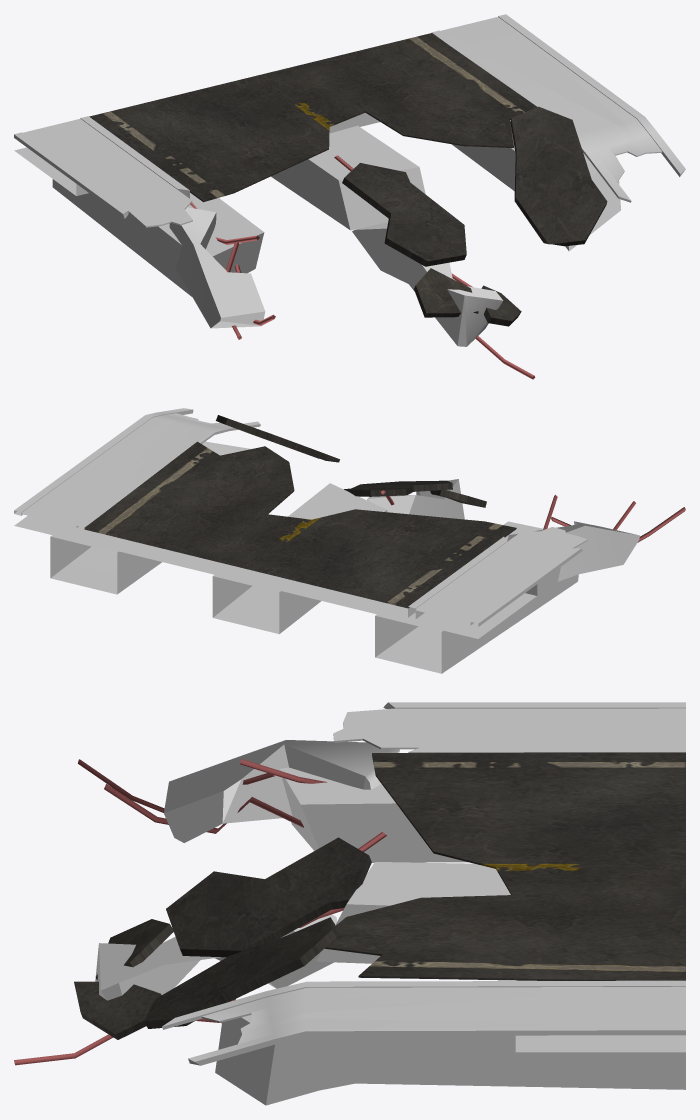
The model's file is Bridge_Damage_Small.fbx.
3 views of the same model, one above another, from view 1: azimuth 30°, elevation 25°; view 2: azimuth 150°, elevation 25°; view 3: azimuth 270°, elevation 25° (orthographic). The views are drawn at different scales.
Parts seen in each view (by area): view 1: Bridge_Damage_B_10, Bridge_Damage_B_1, Bridge_Damage_B_3, Bridge_Damage_B_4, Bridge_Damage_B_2; view 2: Bridge_Damage_B_10, Bridge_Damage_B_3, Bridge_Damage_B_1, Bridge_Damage_B_4; view 3: Bridge_Damage_B_10, Bridge_Damage_B_3, Bridge_Damage_B_1, Bridge_Damage_B_2, Bridge_Damage_B_4, Bridge_Damage_B_8, Bridge_Damage_B_7, Bridge_Damage_B_6.
Part boxes in pixels (box(x1,y1,x2,y2)): Bridge_Damage_B_10: box(14, 14, 685, 346); Bridge_Damage_B_1: box(510, 106, 607, 246); Bridge_Damage_B_3: box(342, 163, 466, 266); Bridge_Damage_B_4: box(414, 268, 478, 317); Bridge_Damage_B_2: box(481, 285, 521, 326); Bridge_Damage_B_10: box(14, 408, 639, 673); Bridge_Damage_B_3: box(344, 480, 452, 496); Bridge_Damage_B_1: box(216, 415, 339, 462); Bridge_Damage_B_4: box(430, 490, 486, 507); Bridge_Damage_B_10: box(95, 702, 685, 1105); Bridge_Damage_B_3: box(166, 837, 371, 957); Bridge_Damage_B_1: box(143, 917, 336, 1028); Bridge_Damage_B_2: box(74, 981, 161, 1039); Bridge_Damage_B_4: box(96, 919, 173, 979); Bridge_Damage_B_8: box(104, 784, 303, 833); Bridge_Damage_B_7: box(78, 759, 275, 812); Bridge_Damage_B_6: box(14, 1018, 221, 1065).
Size of the model in its own units: 1500 by 462 by 1299.
